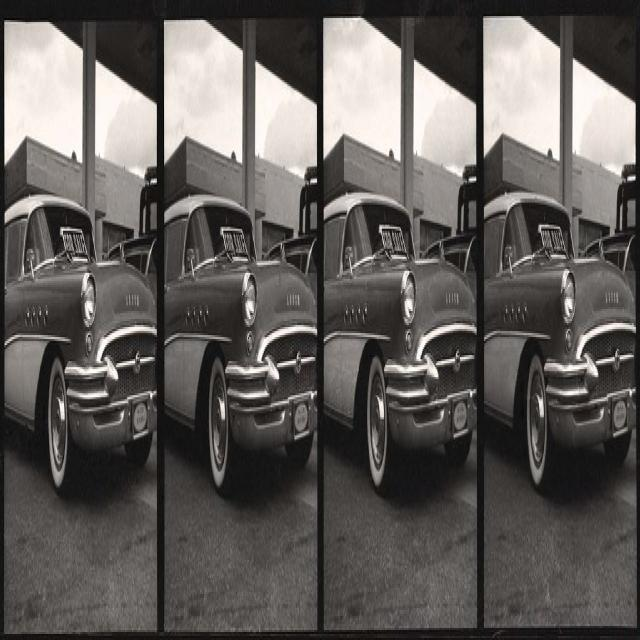car: (486, 185, 639, 496), (164, 185, 317, 490), (322, 193, 474, 474)
